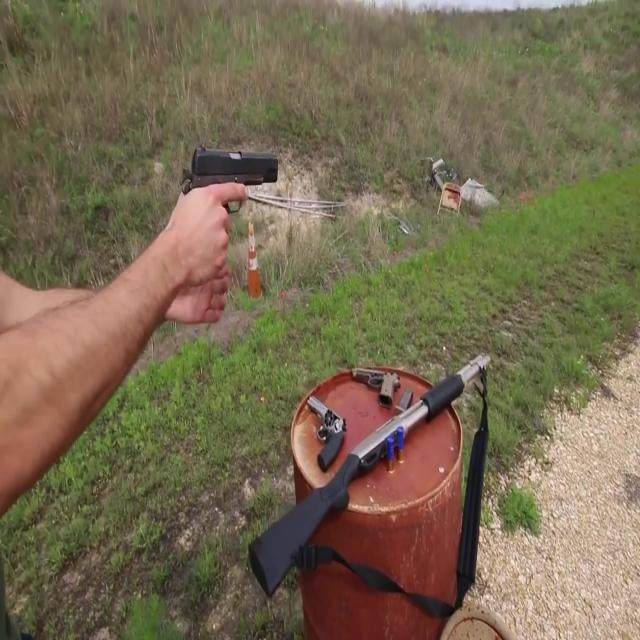Weapon: (225, 326, 522, 604), (150, 127, 302, 236), (296, 381, 344, 477), (344, 356, 402, 410)
